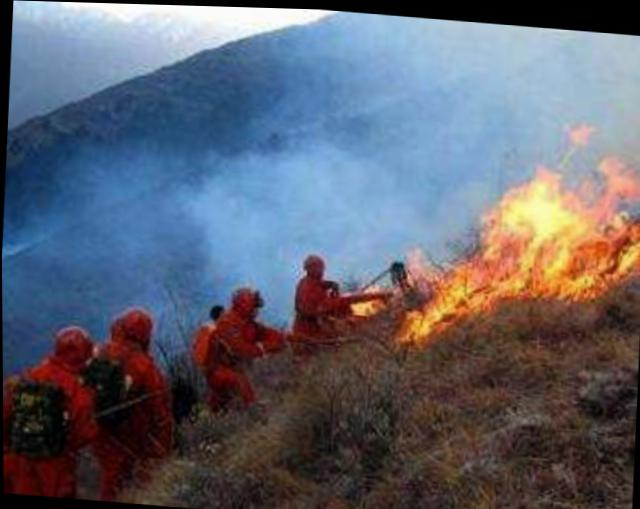fire: (390, 120, 639, 359)
